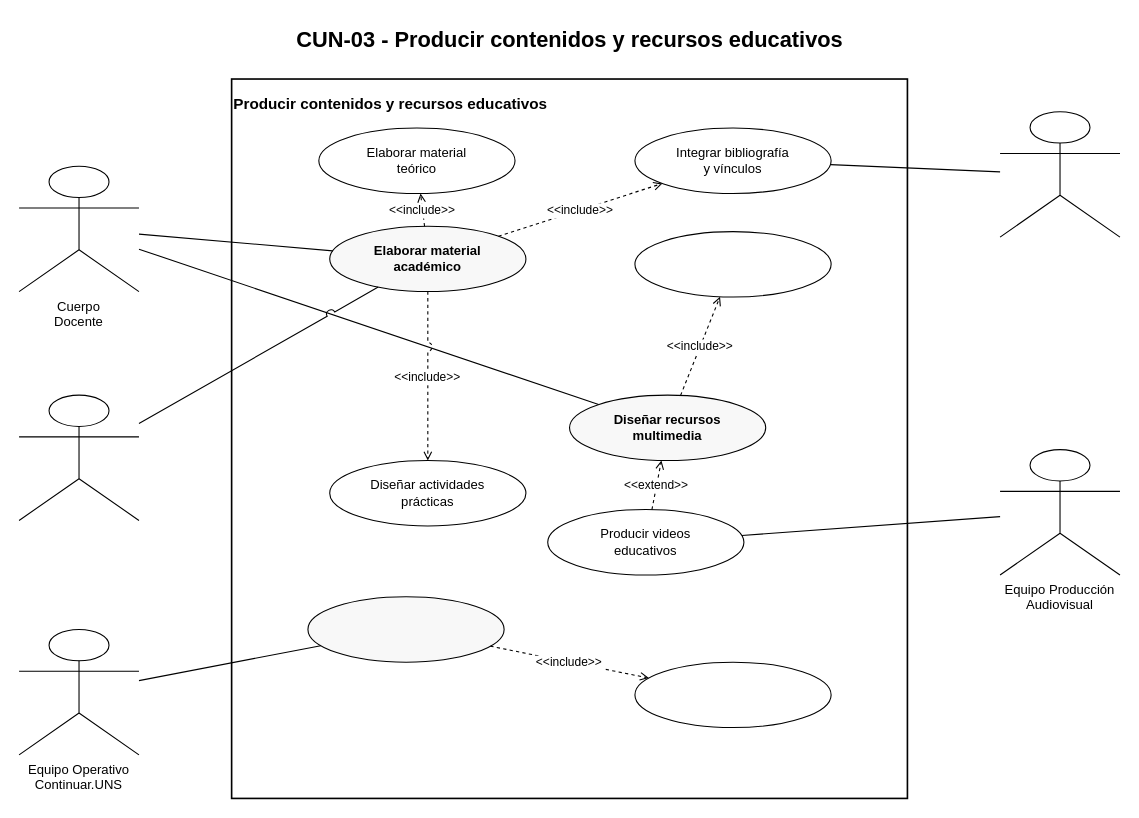
Some shapes in this 1139 by 818 pixel diagram are drawn without their labels. Here are the shapes that lost their labels. From the top down, the centre of each, then its label:
At (x=1059, y=174): "Bibliotecas Digitalizadas".
At (x=732, y=264): "Producir recursos gráficos".
At (x=78, y=457): "Coordinadores Departamento Economía".
At (x=405, y=629): "Publicar recursos en aula virtual".
At (x=732, y=694): "Publicar materiales en LMS".
